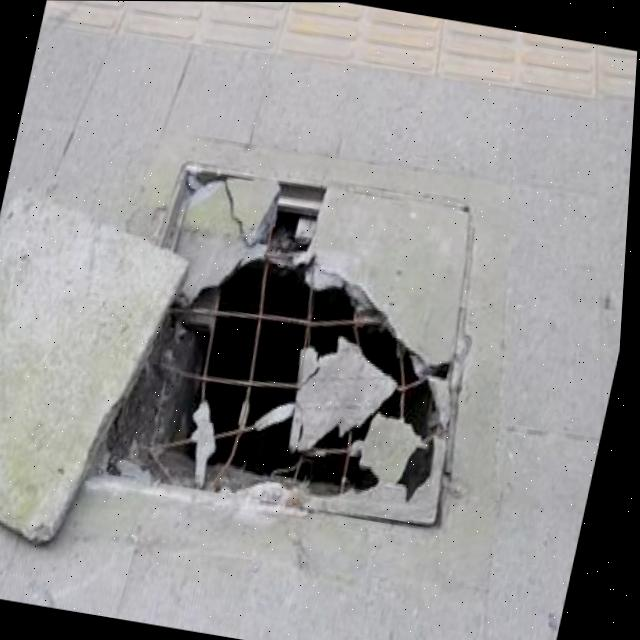manhole: (81, 134, 522, 535)
